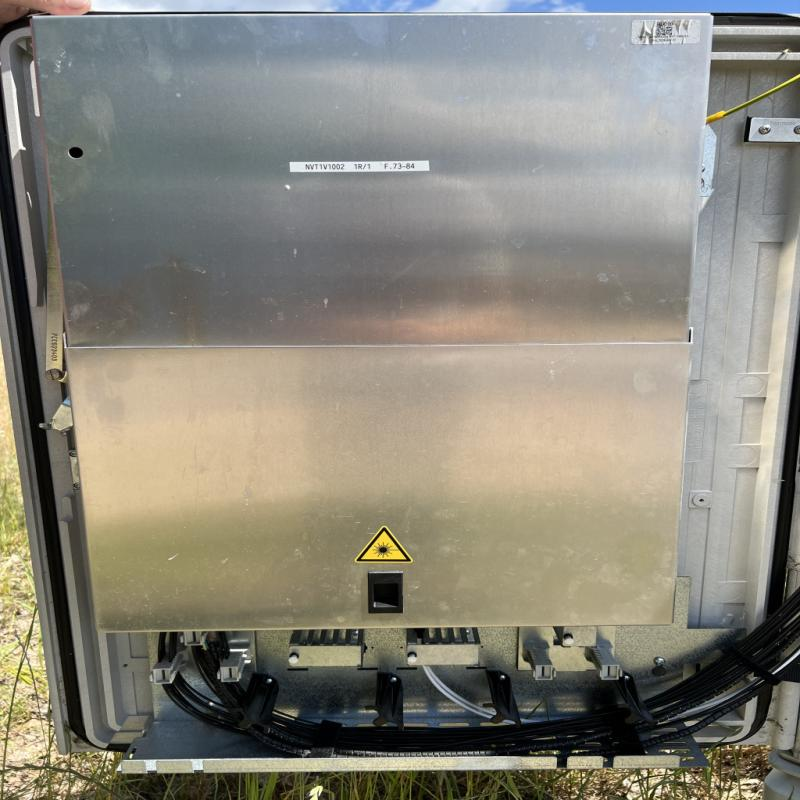NT-Gehause: (8, 0, 800, 760)
